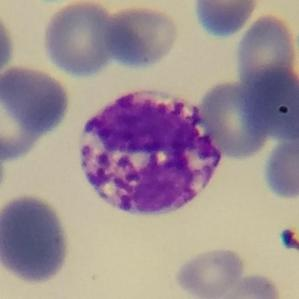Basophil: (70, 78, 229, 227)
Platelets: (278, 226, 299, 252)
RBC: (0, 61, 74, 164), (0, 190, 74, 287), (195, 78, 274, 160), (40, 0, 120, 78), (236, 56, 298, 148), (232, 14, 298, 98), (102, 3, 182, 70), (173, 245, 247, 299), (190, 0, 262, 40), (261, 128, 299, 201), (214, 272, 284, 299), (0, 3, 17, 84)
